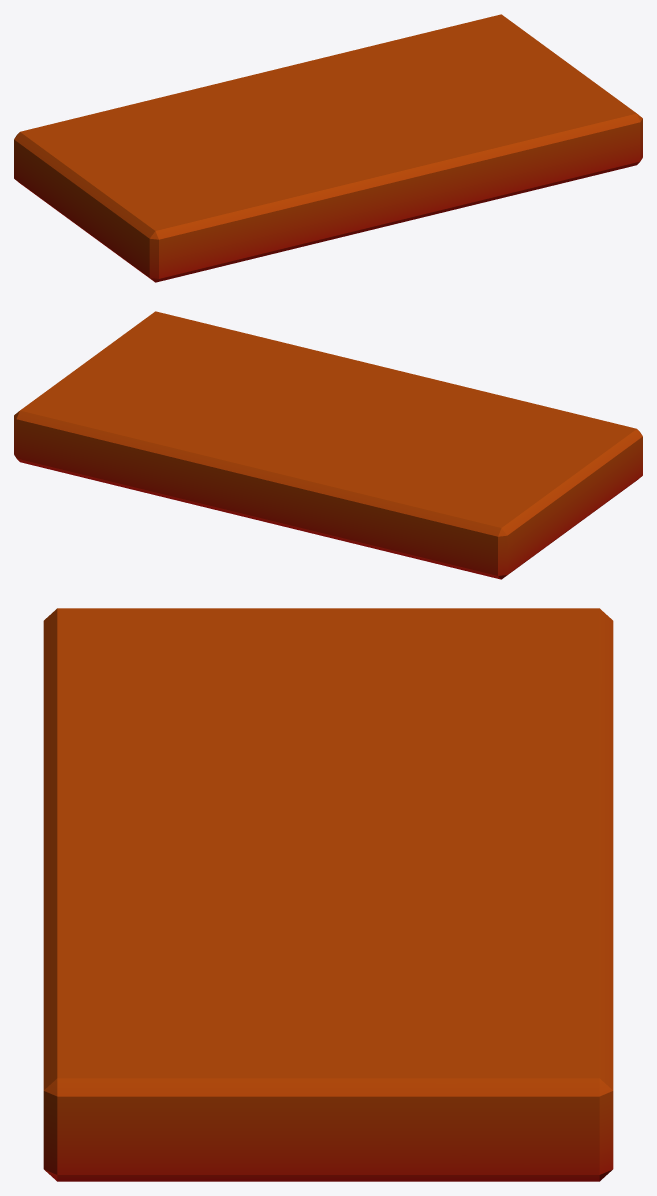
File: road_stone.glb
3 views of the same model, one above another, from view 1: azimuth 30°, elevation 25°; view 2: azimuth 150°, elevation 25°; view 3: azimuth 270°, elevation 25° (orthographic). The views are drawn at different scales.
Visible parts, largest first — view 1: road_stone; view 2: road_stone; view 3: road_stone.
Boxes of the visible parts, x1=… form: road_stone: x1=14, y1=14, x2=642, y2=282; road_stone: x1=14, y1=311, x2=642, y2=579; road_stone: x1=43, y1=608, x2=613, y2=1181.
Size of what is drawn, in the model's own units: 2 by 0.2 by 1.
